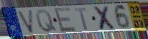6: (113, 4, 132, 31)
E: (53, 7, 78, 34)
Q: (35, 9, 59, 34)
T: (73, 8, 89, 32)
V: (16, 9, 35, 34)
X: (92, 5, 119, 31)
